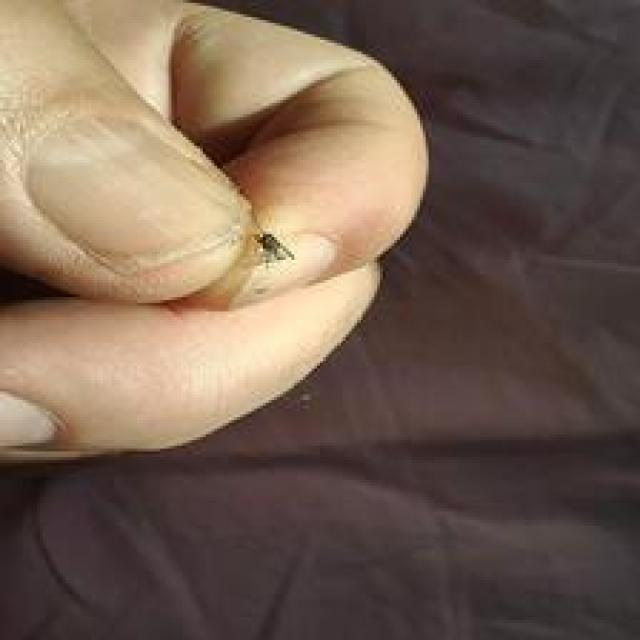Aedes albopictus: (0, 0, 297, 311)
